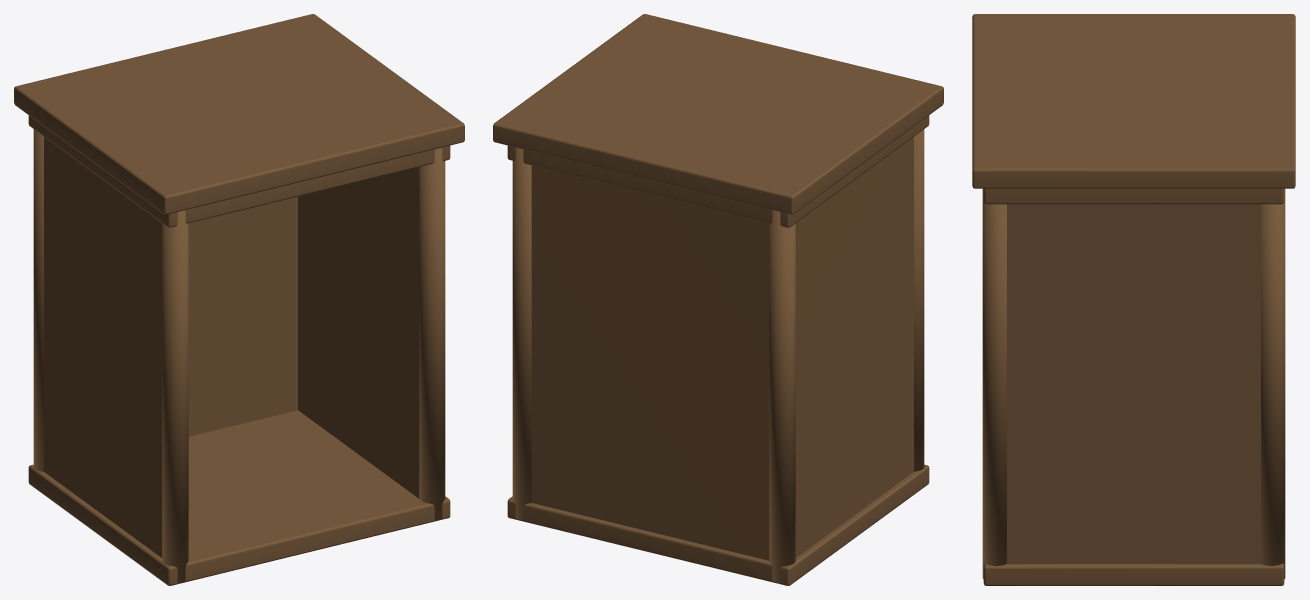
The model's file is wardrobe_case.glb.
The picture shows the model from 3 angles, left to right: view 1: azimuth 30°, elevation 25°; view 2: azimuth 150°, elevation 25°; view 3: azimuth 270°, elevation 25°; orthographic projection. The views are drawn at different scales.
Visible parts, largest first — view 1: wardrobe_case; view 2: wardrobe_case; view 3: wardrobe_case.
Boxes of the visible parts, x1,y1,x2,y2 form: wardrobe_case: (14, 14, 464, 585); wardrobe_case: (493, 14, 943, 585); wardrobe_case: (972, 14, 1295, 585).
Size of the model in its own units: 1.97 by 2.48 by 1.72.
